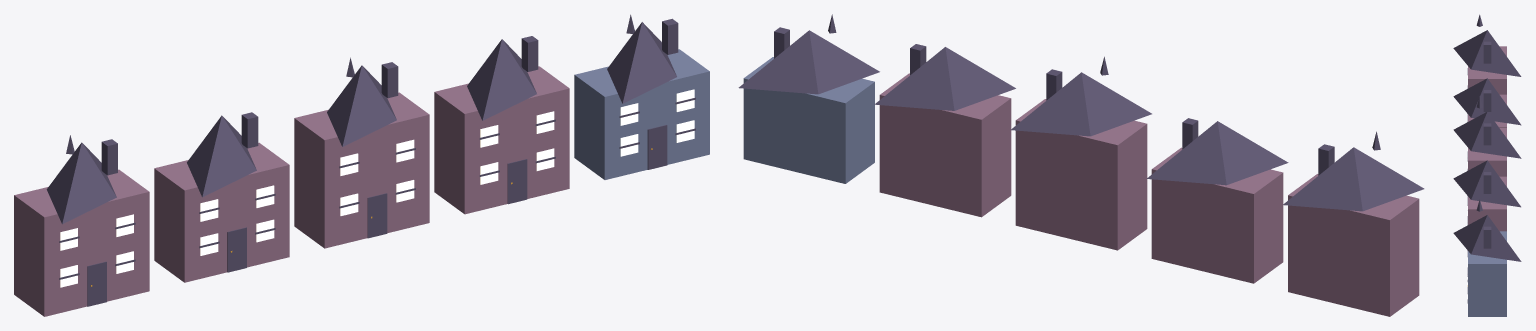
File: BG_HousesNear.fbx
3 views of the same model, side by side, from view 1: azimuth 30°, elevation 25°; view 2: azimuth 150°, elevation 25°; view 3: azimuth 270°, elevation 25° (orthographic). The views are drawn at different scales.
Visible parts, largest first — view 1: BG_HousesNear; view 2: BG_HousesNear; view 3: BG_HousesNear.
Part boxes in pixels (box(x1,y1,x2,y2)): BG_HousesNear: box(14, 14, 709, 316); BG_HousesNear: box(738, 14, 1424, 316); BG_HousesNear: box(1453, 14, 1521, 316).
Size of the model in its own units: 38 by 9.61 by 5.3.
